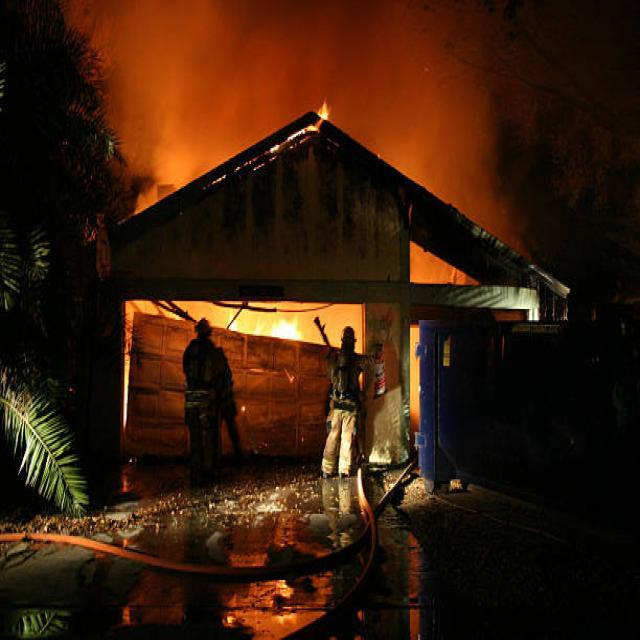Fire: (224, 312, 314, 344)
